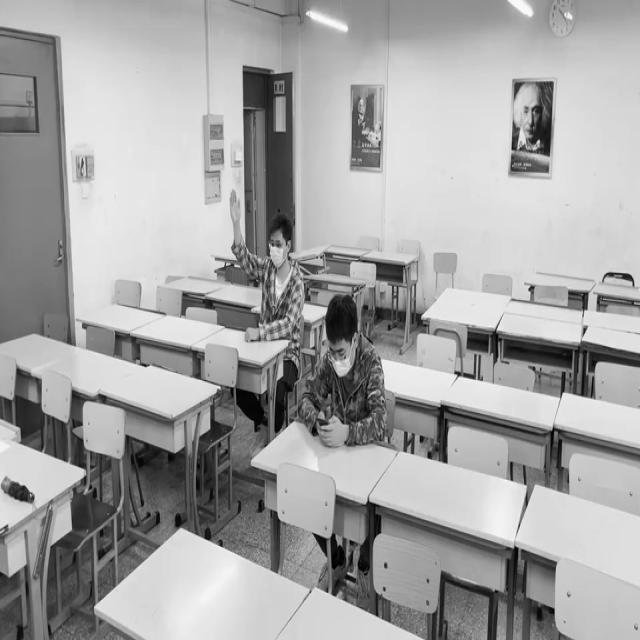phone: (304, 294, 387, 445)
study: (228, 186, 303, 340)
